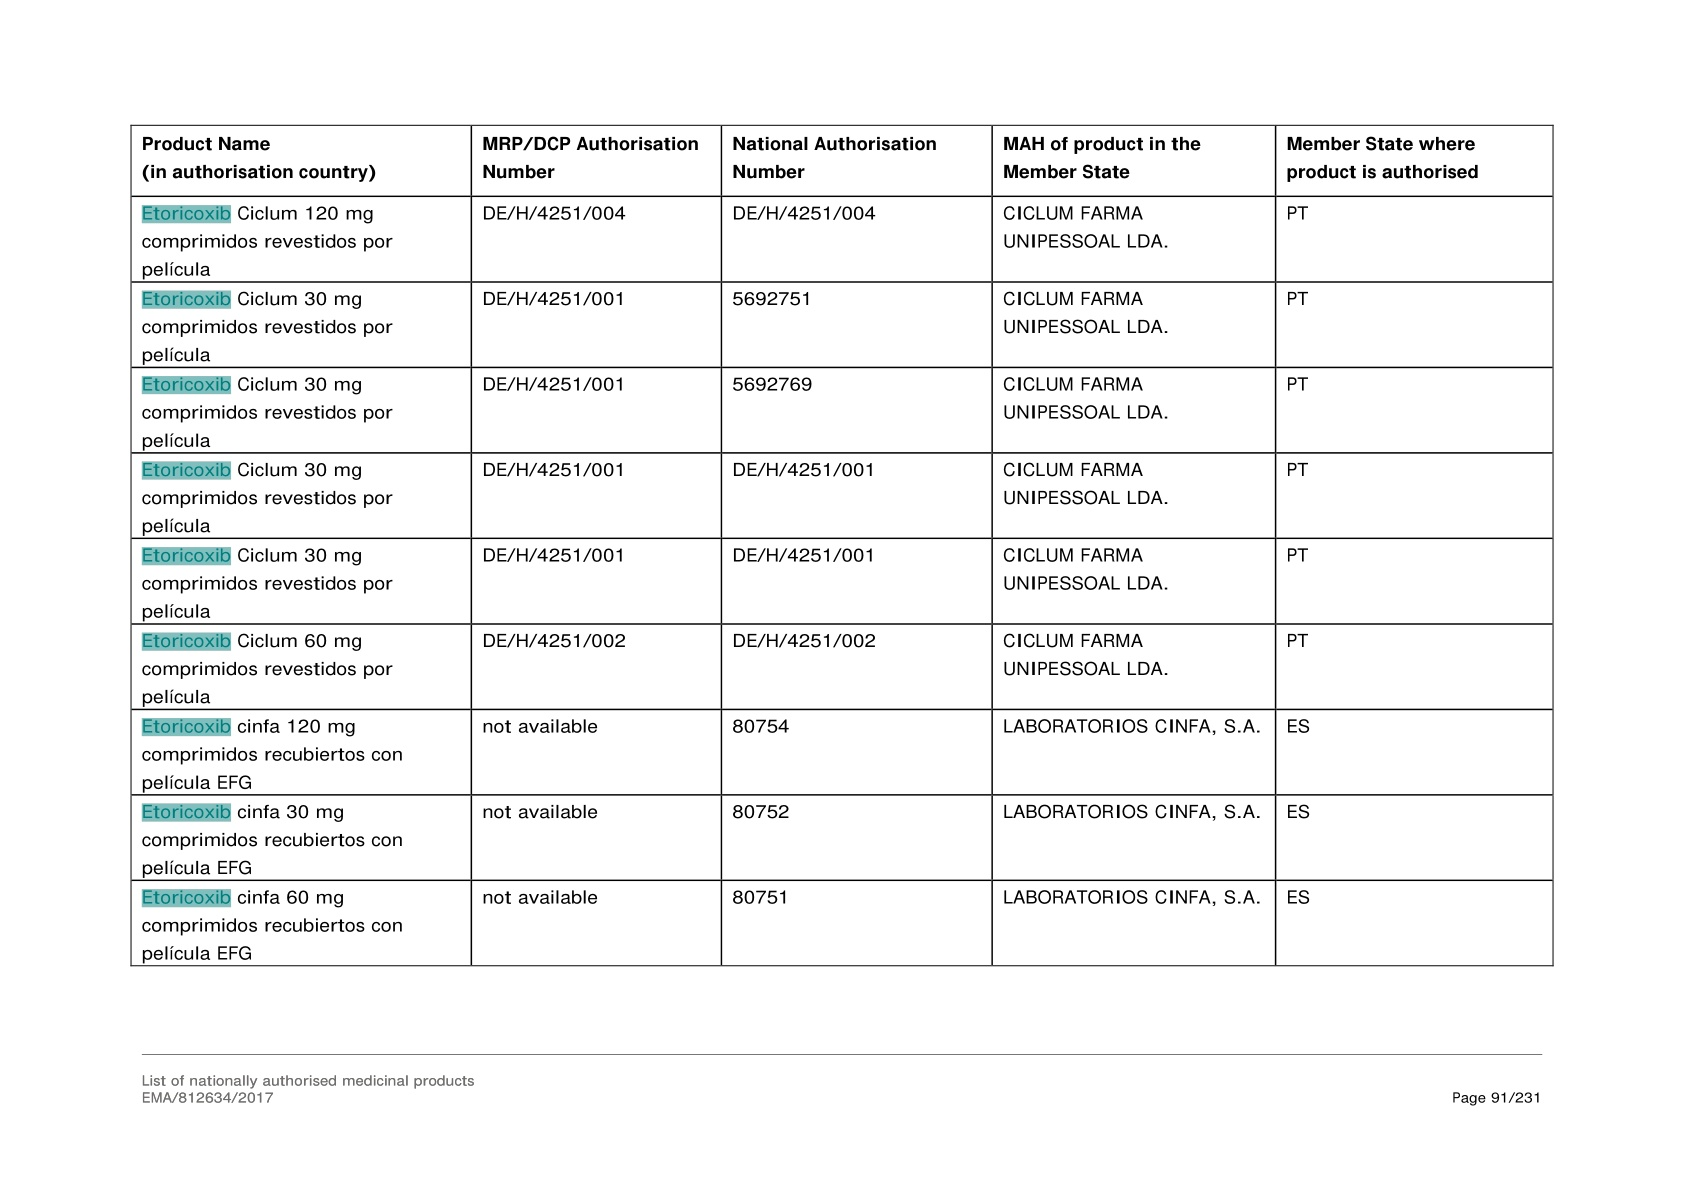full_lined: (128, 122, 1555, 967)
